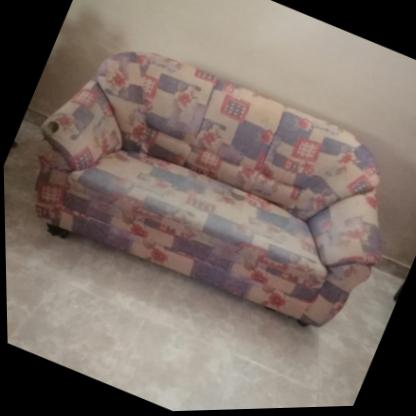Ceramic floor: (3, 115, 400, 412)
Sofa: (2, 14, 416, 361)
